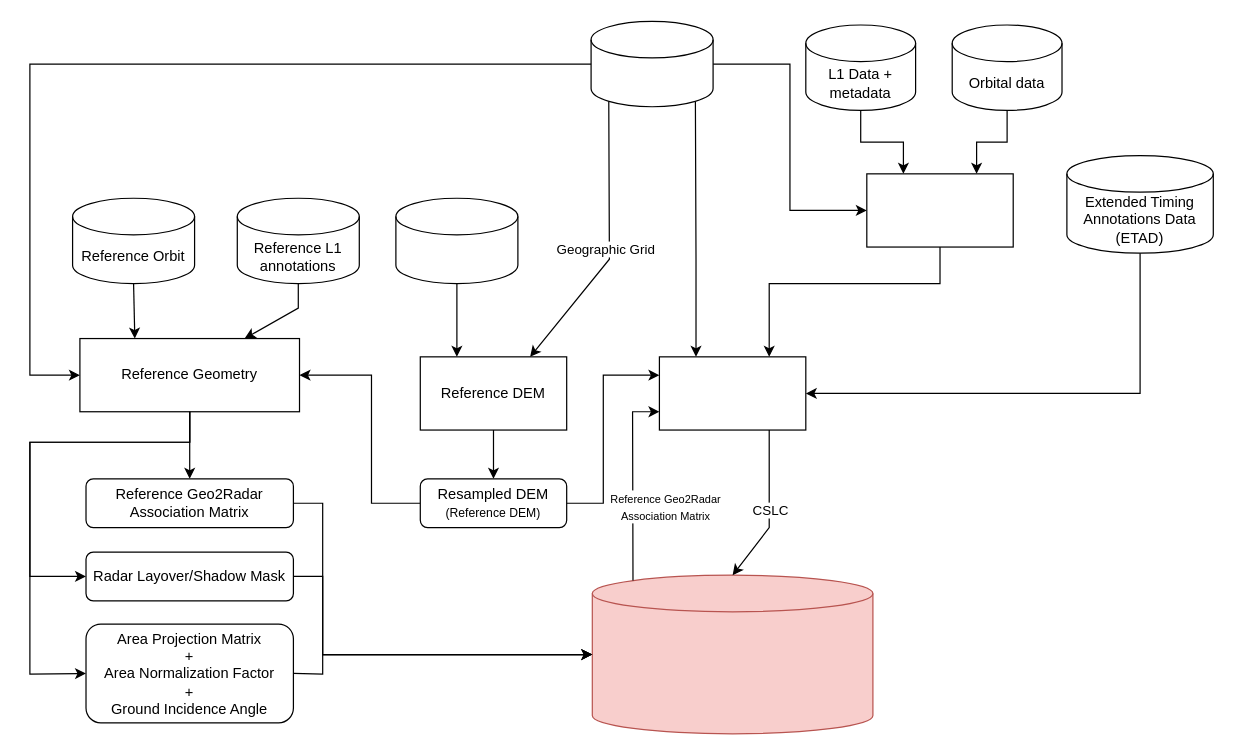
Image size: 1235x755. Some labels were removed from this diagram. Here are the shapes that lost their labels. From the top down, the box of each, then its label:
(590, 20, 713, 107): Parameters configuration file
(866, 173, 1013, 247): Calibration
(395, 197, 518, 284): Digital Elevation Model (DEM)
(658, 356, 806, 430): Co-registration
(591, 574, 873, 734): Store - Geometry and Projection info (Static Archive) - CSLC - GSLC
